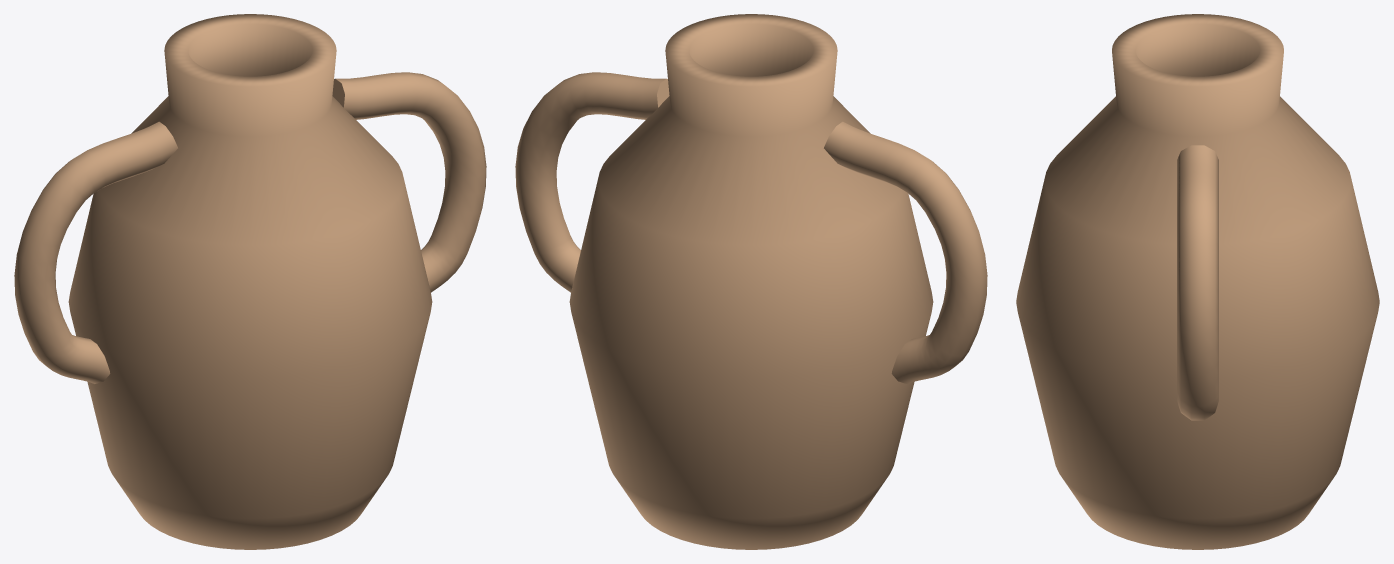
File: campaign_ceramic.glb
The picture shows the model from 3 angles, left to right: view 1: azimuth 30°, elevation 25°; view 2: azimuth 150°, elevation 25°; view 3: azimuth 270°, elevation 25°; orthographic projection.
Parts seen in each view (by area): view 1: campaign_ceramic_V17_ceramic_clay; view 2: campaign_ceramic_V17_ceramic_clay; view 3: campaign_ceramic_V17_ceramic_clay.
Boxes of the visible parts, x1,y1,x2,y2 form: campaign_ceramic_V17_ceramic_clay: [14, 14, 486, 549]; campaign_ceramic_V17_ceramic_clay: [515, 14, 987, 549]; campaign_ceramic_V17_ceramic_clay: [1016, 14, 1379, 549].
Size of the model in its own units: 0.5617 by 0.52 by 0.38.
